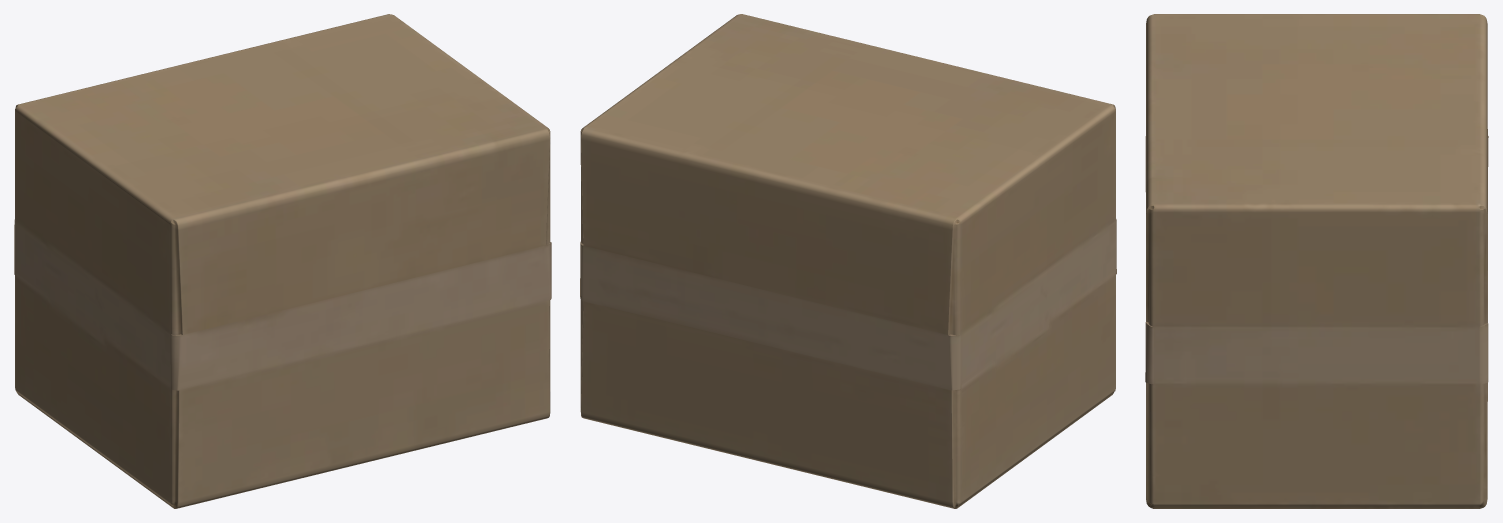
3 views of the same model, side by side, from view 1: azimuth 30°, elevation 25°; view 2: azimuth 150°, elevation 25°; view 3: azimuth 270°, elevation 25° (orthographic). The views are drawn at different scales.
Visible parts, largest first — view 1: sm_box_cardboard_a01_01; view 2: sm_box_cardboard_a01_01; view 3: sm_box_cardboard_a01_01.
Boxes of the visible parts, box(x1,y1,x2,y2) form: sm_box_cardboard_a01_01: box(14, 14, 551, 508); sm_box_cardboard_a01_01: box(580, 14, 1116, 508); sm_box_cardboard_a01_01: box(1145, 14, 1488, 508).
Size of the model in its own units: 0.6994 by 0.5099 by 0.5211.
Materials: 1 (1 with a texture image).
